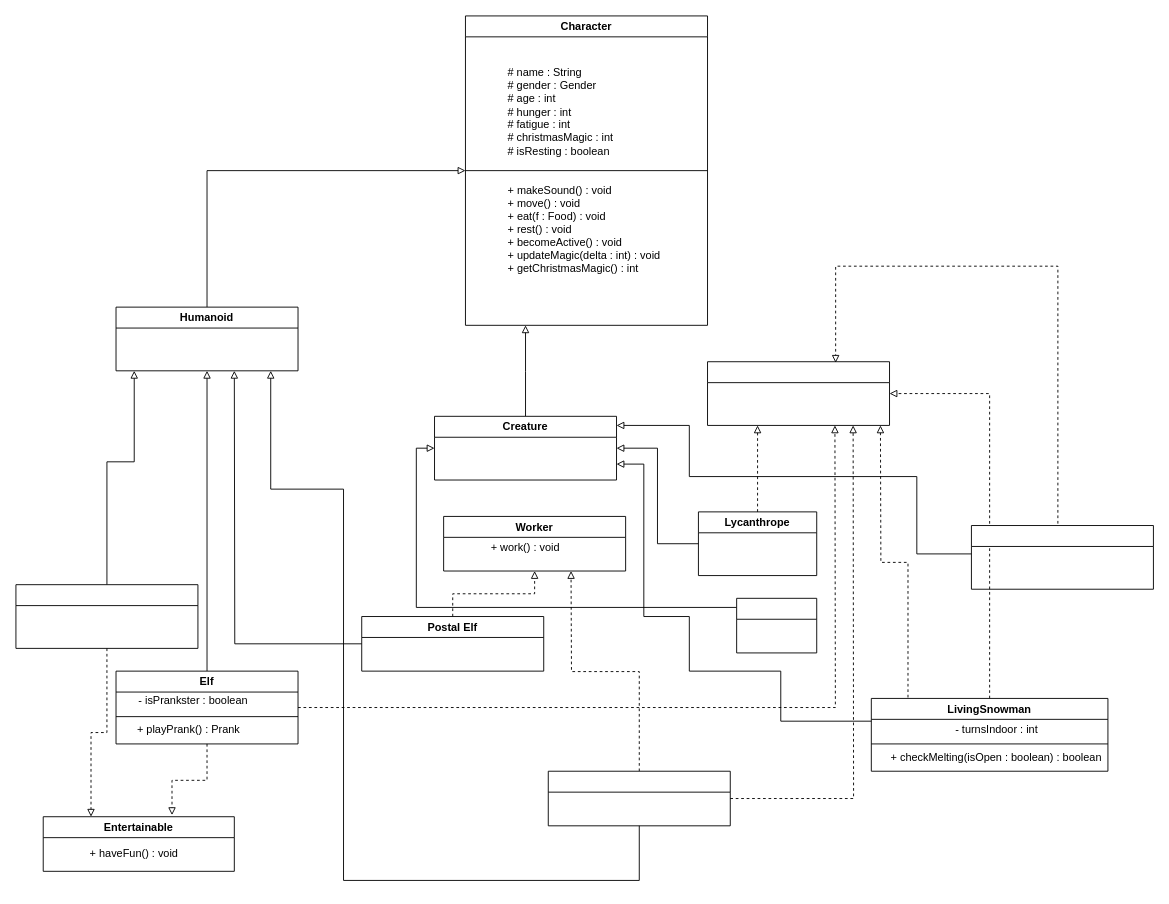
Some shapes in this 1169 by 904 pixel diagram are drawn without their labels. Here are the shapes that lost their labels. From the top down, the centre of each, then its label:
[798,393]: FantasticalBeing
[1062,557]: NorthenSpirit
[106,616]: VisitingChild
[776,625]: Reindeer
[638,798]: Christmas Fairy
